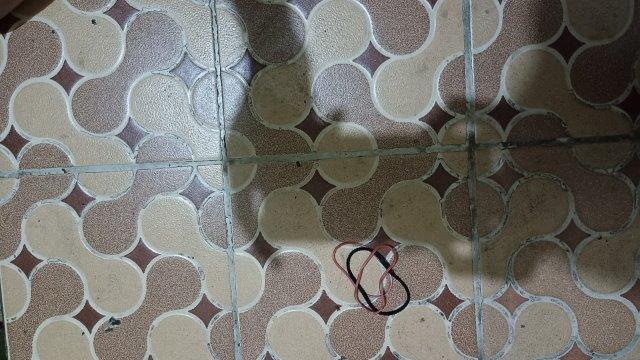karet: (332, 241, 411, 315)
